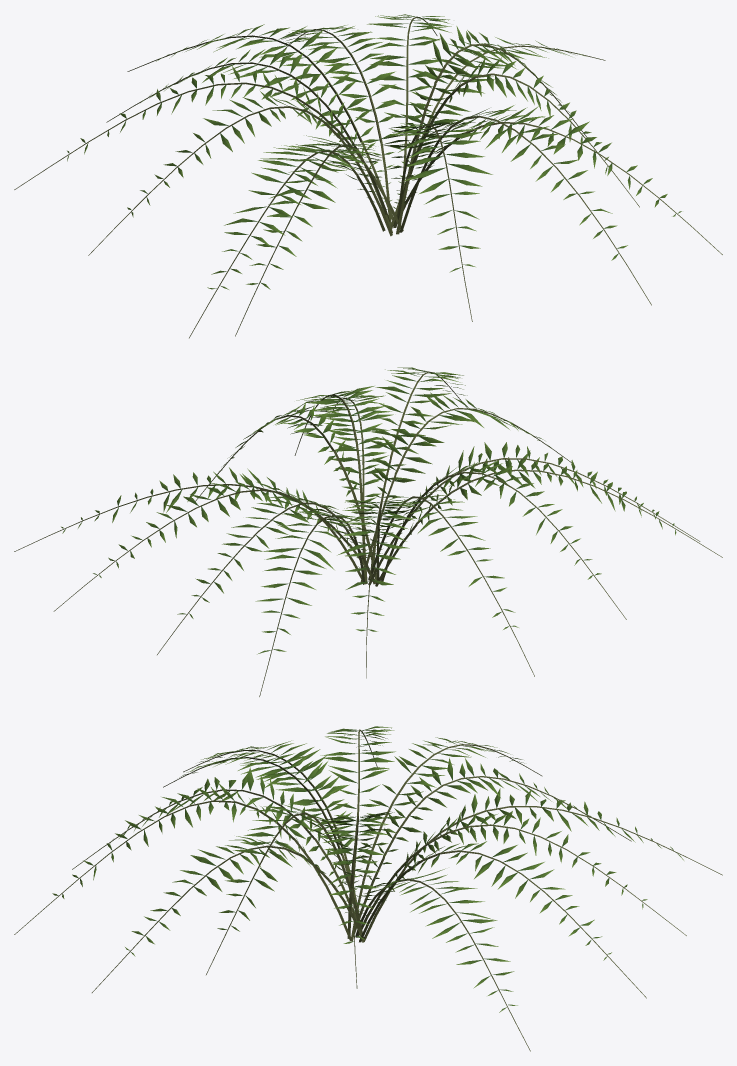
The model's file is forest_fern_002_a_LOD1.gltf.
The picture shows the model from 3 angles, top to bottom: view 1: azimuth 30°, elevation 25°; view 2: azimuth 150°, elevation 25°; view 3: azimuth 270°, elevation 25°; orthographic projection. The views are drawn at different scales.
Parts seen in each view (by area): view 1: forest_fern_002_a_LOD1; view 2: forest_fern_002_a_LOD1; view 3: forest_fern_002_a_LOD1.
Boxes of the visible parts, <box> form: forest_fern_002_a_LOD1: <box>14,14,722,338</box>; forest_fern_002_a_LOD1: <box>14,367,722,696</box>; forest_fern_002_a_LOD1: <box>14,726,722,1051</box>.
Size of the model in its own units: 4 by 1.09 by 4.36.
1 material, 1 textured.
